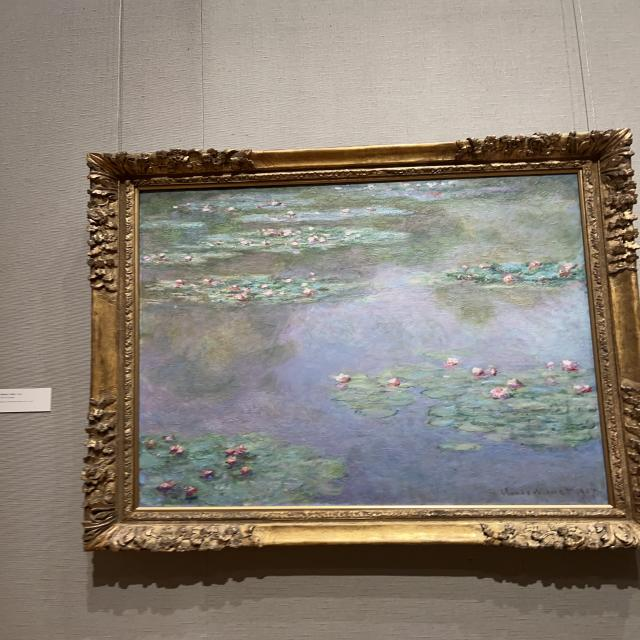lilies: (138, 174, 610, 508)
